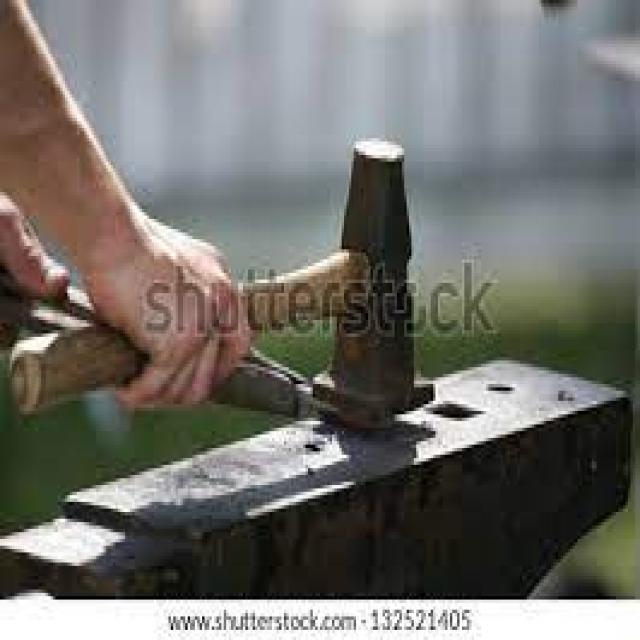hammer: (9, 130, 426, 433)
